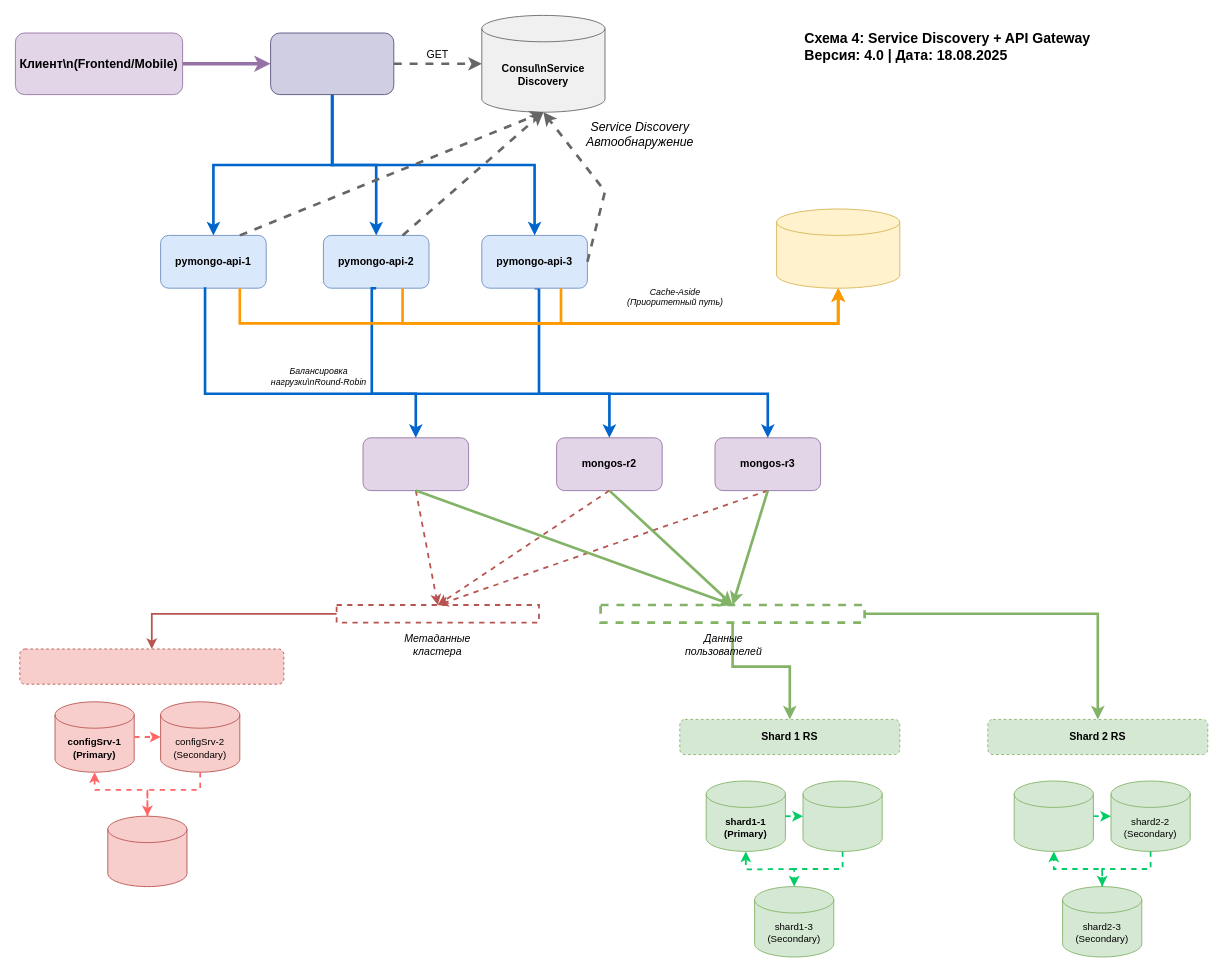
The diagram is 1223 pixels wide and 972 high, and some of its shapes have lost their labels. Each missing label, with the centre of its shape:
"APISIX\nAPI Gateway" belongs at point (332, 63).
"Config Servers RS" belongs at point (151, 666).
"configSrv-3 (Secondary)" belongs at point (147, 851).
"mongos-r1" belongs at point (415, 464).
"Redis/Valkey\nCluster" belongs at point (838, 248).
"shard1-2 (Secondary)" belongs at point (842, 815).
"shard2-1 (Primary)" belongs at point (1053, 815).
